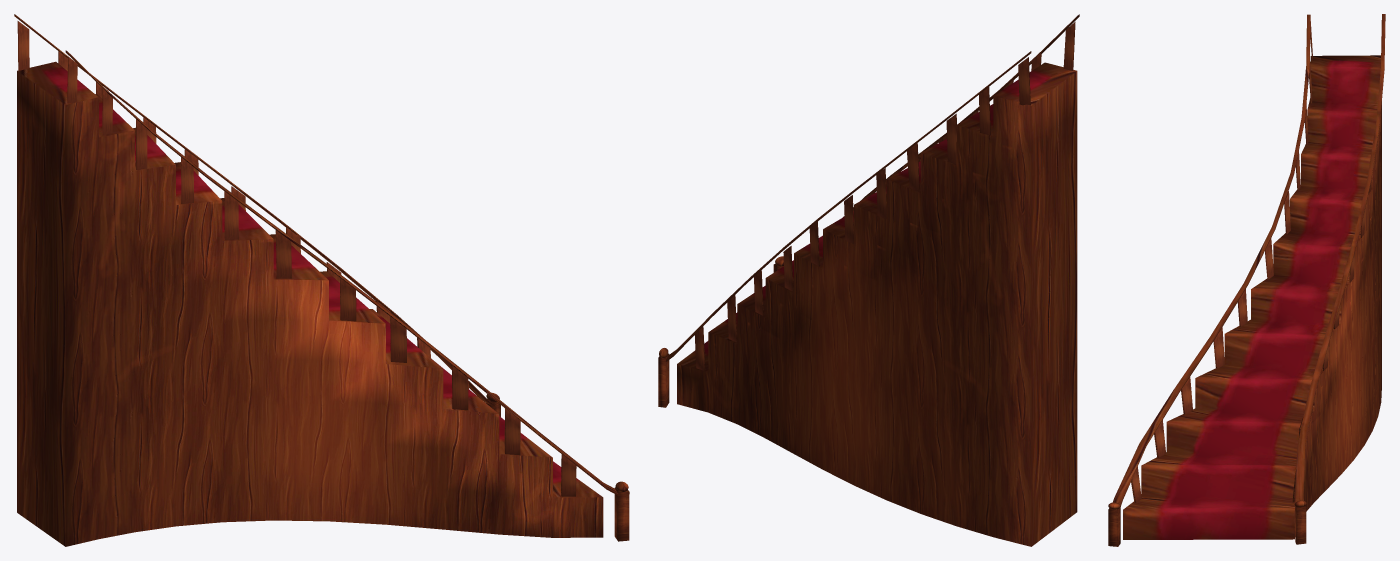
The model's file is Escaleras Fin.FBX.
The picture shows the model from 3 angles, left to right: view 1: azimuth 30°, elevation 25°; view 2: azimuth 150°, elevation 25°; view 3: azimuth 270°, elevation 25°; orthographic projection. The views are drawn at different scales.
Parts seen in each view (by area): view 1: Escalera; view 2: Escalera; view 3: Escalera.
Part boxes in pixels (<box>): Escalera: <box>14,14,629,546</box>; Escalera: <box>658,14,1079,546</box>; Escalera: <box>1108,14,1385,546</box>.
Size of the model in its own units: 313 by 343 by 231.
1 material, 1 textured.
